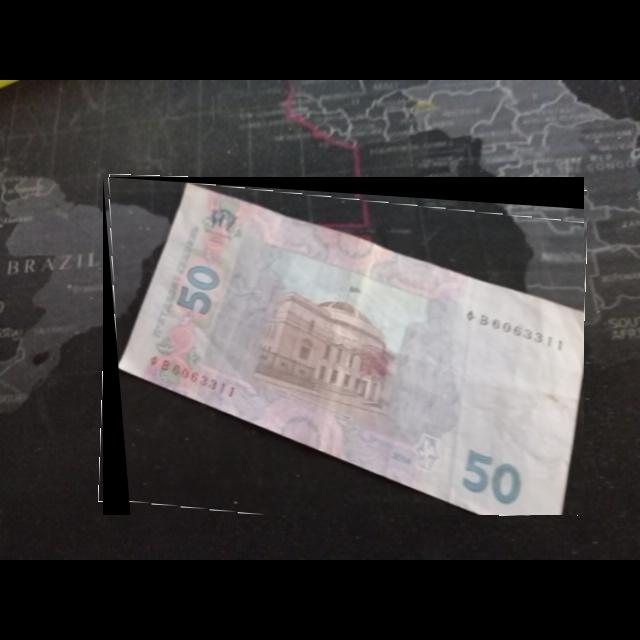50uah: (116, 182, 585, 516)
